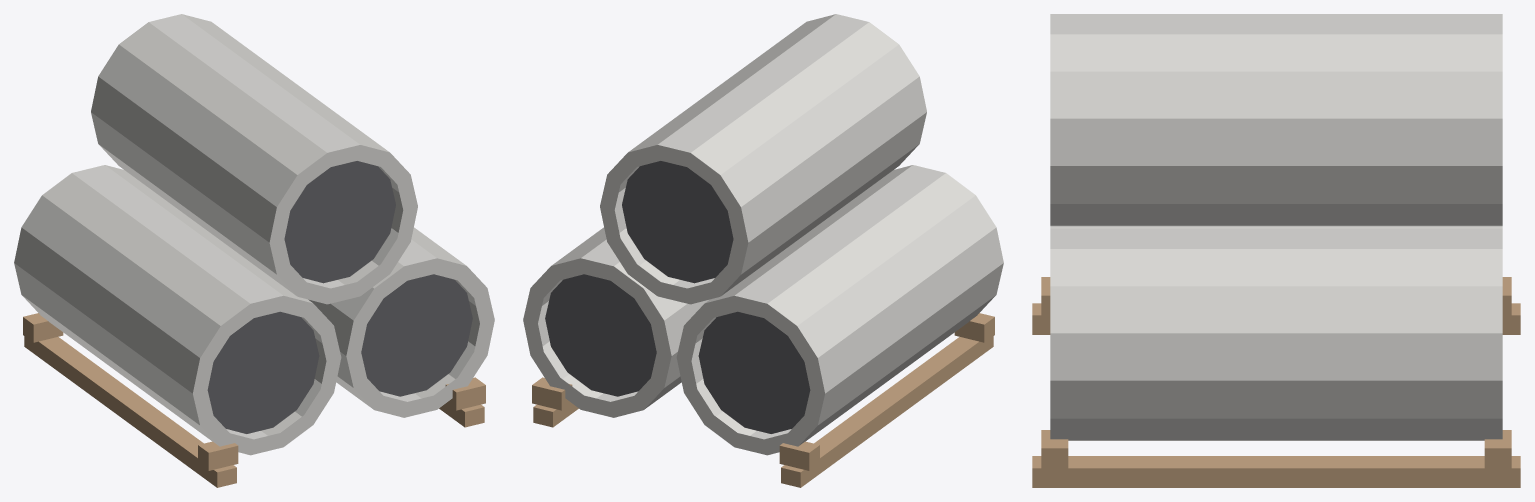
The model's file is Cover_Pipe_Stack.fbx.
3 renders of one model, left to right at view 1: azimuth 30°, elevation 25°; view 2: azimuth 150°, elevation 25°; view 3: azimuth 270°, elevation 25°, orthographic. The views are drawn at different scales.
Parts seen in each view (by area): view 1: Cover_Pipe_Stack; view 2: Cover_Pipe_Stack; view 3: Cover_Pipe_Stack.
Part boxes in pixels (bbox=[...]): Cover_Pipe_Stack: bbox=[14, 14, 494, 487]; Cover_Pipe_Stack: bbox=[523, 14, 1003, 487]; Cover_Pipe_Stack: bbox=[1032, 14, 1520, 487].
Size of the model in its own units: 2.44 by 2.32 by 2.7.
